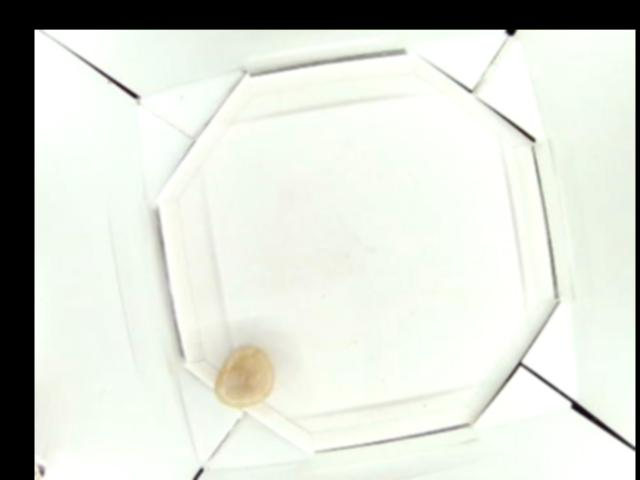Pebble: (215, 345, 276, 404)
